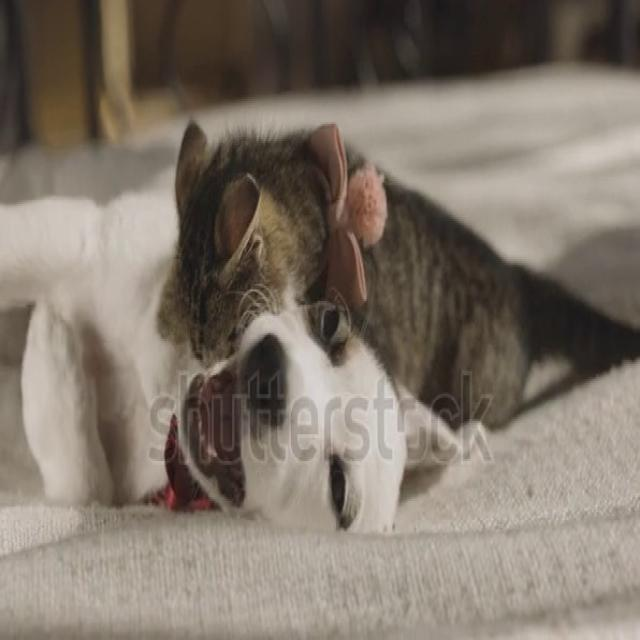normal_animals: (1, 111, 637, 537)
